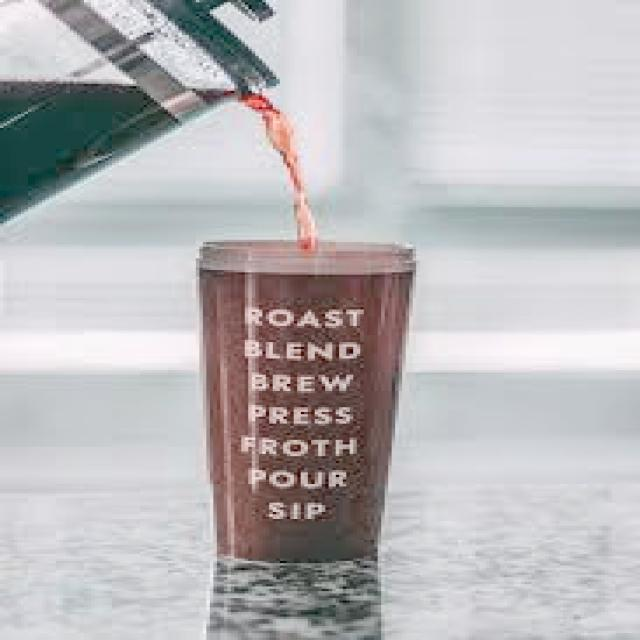bottle: (201, 242, 422, 566)
